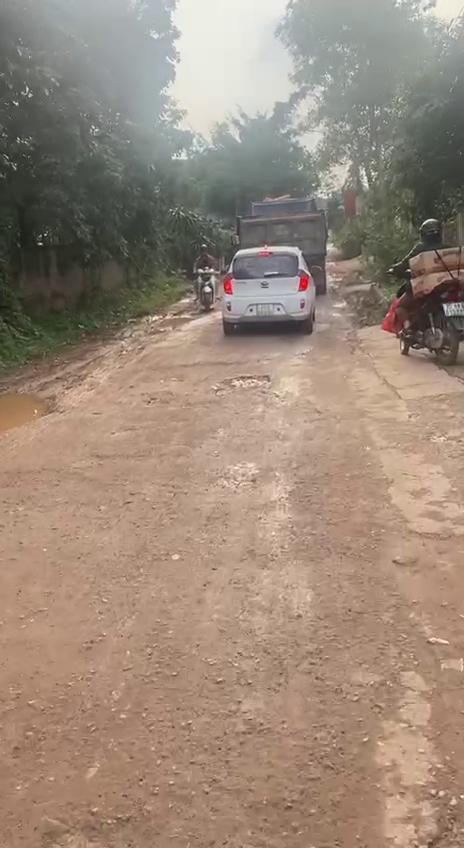pothole: (388, 522, 464, 691), (0, 390, 64, 439), (222, 374, 274, 394)
